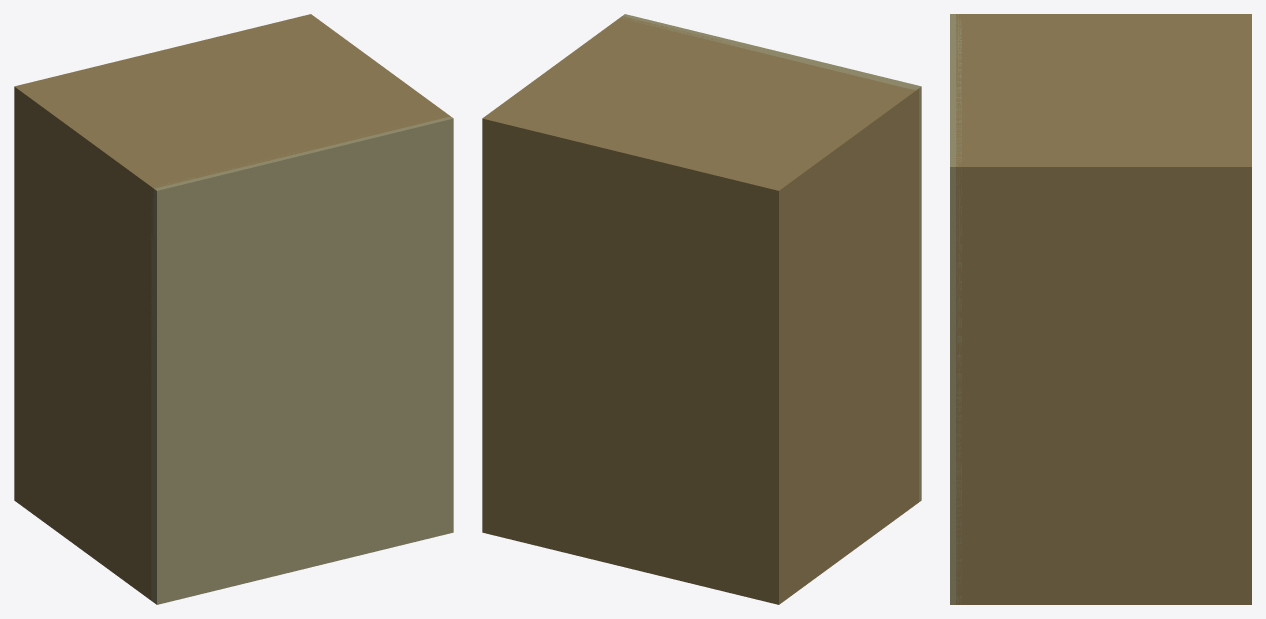
Rendered from wooden_crate_003_v1.glb.
The picture shows the model from 3 angles, left to right: view 1: azimuth 30°, elevation 25°; view 2: azimuth 150°, elevation 25°; view 3: azimuth 270°, elevation 25°; orthographic projection. The views are drawn at different scales.
Parts seen in each view (by area): view 1: top, side4, side1, base, side2, side3; view 2: base, side4, side1, top, side2, side3; view 3: side3, side1, base, top, side2, side4.
Part boxes in pixels (<box>): top: <box>151,116,453,604</box>; side4: <box>17,89,163,599</box>; side1: <box>17,17,450,198</box>; base: <box>14,14,316,504</box>; side2: <box>17,493,151,600</box>; side3: <box>308,16,450,117</box>; base: <box>482,115,784,604</box>; side4: <box>774,89,918,601</box>; side1: <box>485,16,918,198</box>; top: <box>622,14,921,501</box>; side2: <box>782,492,918,602</box>; side3: <box>486,17,629,116</box>; side3: <box>956,162,1245,604</box>; side1: <box>956,14,1245,177</box>; base: <box>1240,14,1251,604</box>; top: <box>950,14,961,604</box>; side2: <box>956,594,1244,604</box>; side4: <box>956,14,1245,18</box>.
Bounding box in the file's own units: 60 × 80 × 50.
